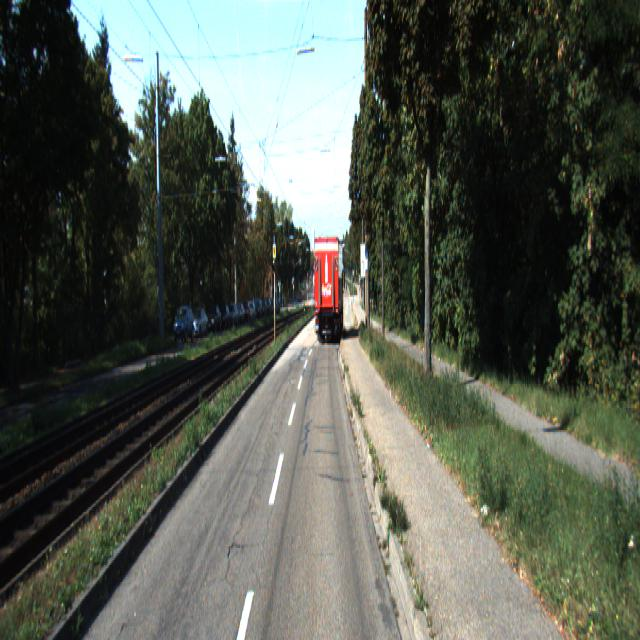Car: (312, 236, 346, 346), (172, 305, 194, 344), (186, 308, 207, 341)
